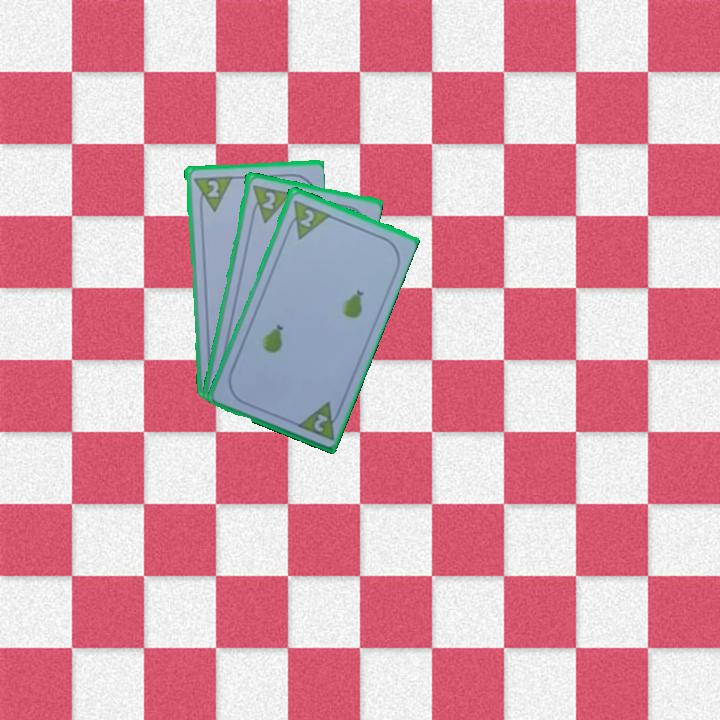2p: (292, 398, 345, 443), (247, 181, 292, 225), (189, 172, 233, 214), (296, 205, 317, 230)
